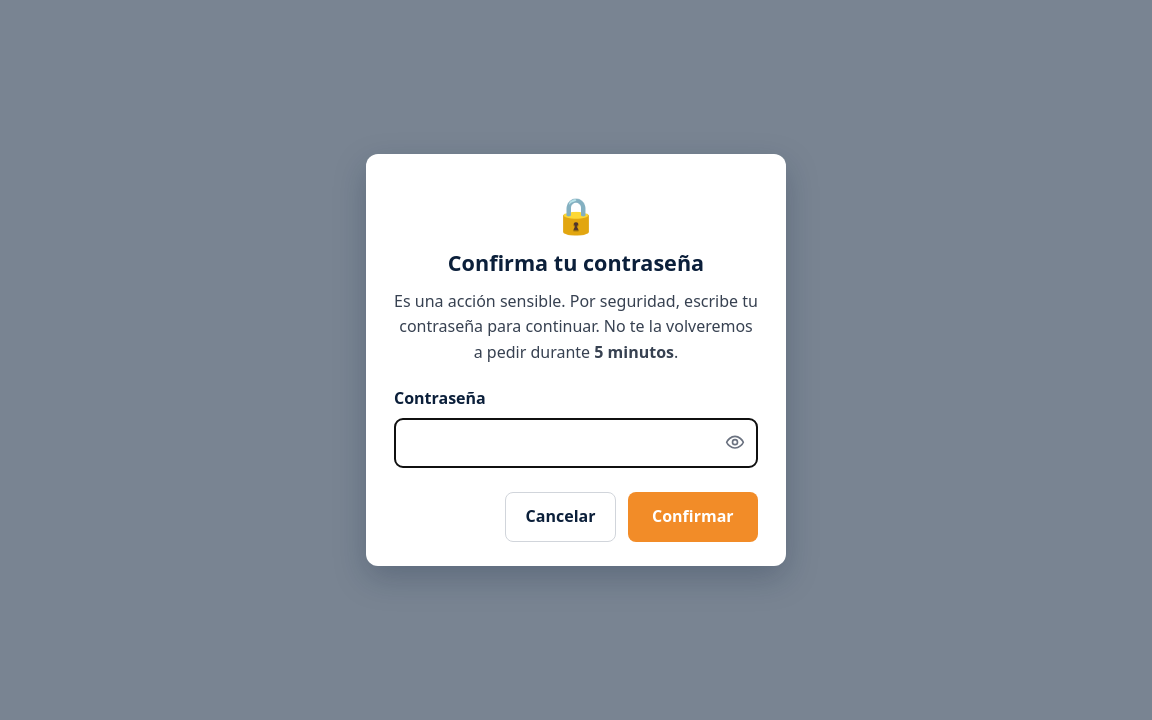
it: ConfirmPasswordDialog › shows the error and does not close with a wrong password
The width and height of the screenshot is (1152, 720).
Type "Wrong2026" into the password field with id "confirm-password-input".
click(576, 443); type("Wrong2026")  # box [394,418,758,468]
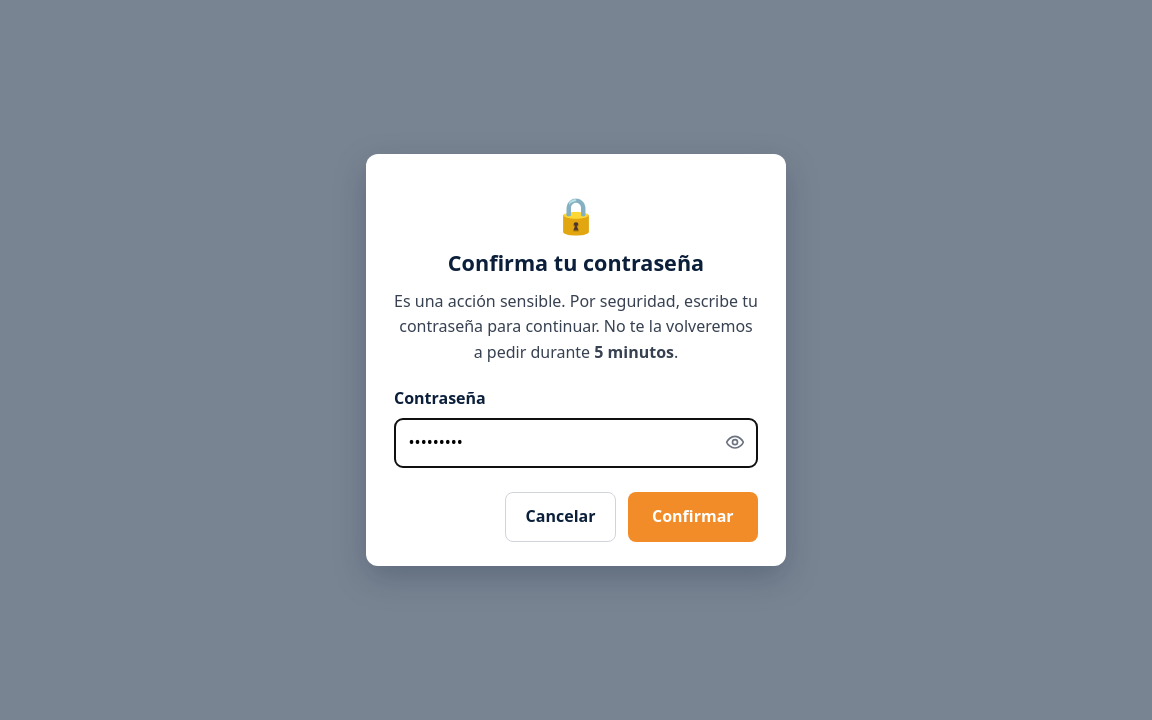
Submit the dialog, box [366,154,786,566]
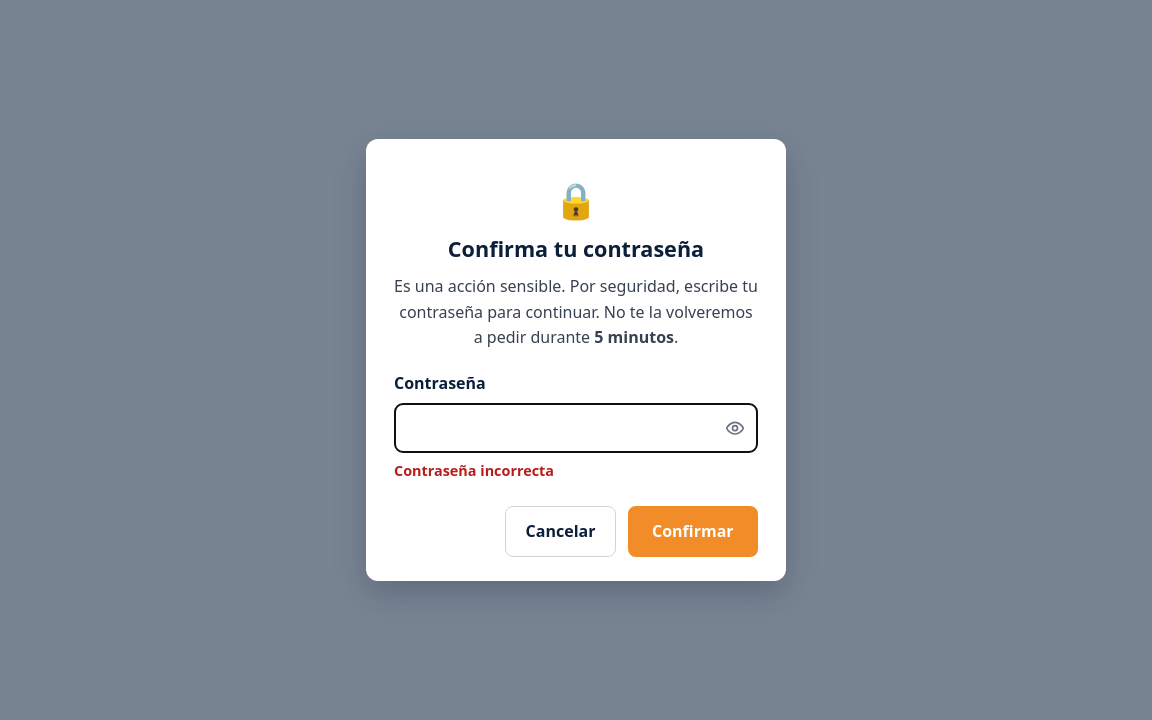
Now the message with class "confirm-password__error" reads "Contraseña incorrecta", box [394,461,554,480]
